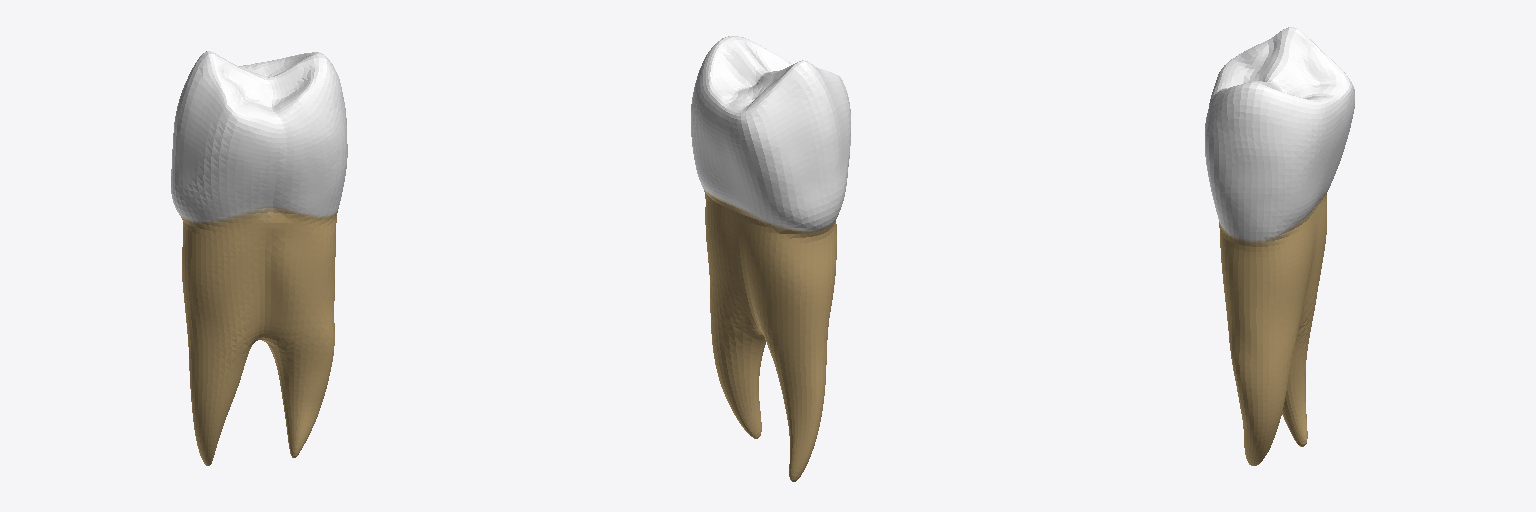
3 renders of one model, left to right at view 1: azimuth 30°, elevation 25°; view 2: azimuth 150°, elevation 25°; view 3: azimuth 270°, elevation 25°, orthographic.
Parts seen in each view (by area): view 1: outer; view 2: outer; view 3: outer.
Boxes of the visible parts, x1,y1,x2,y2 form: outer: [171, 51, 347, 465]; outer: [691, 36, 850, 481]; outer: [1205, 27, 1354, 465].
Bounding box in the file's own units: 3.64 × 9.58 × 3.14.
Materials: 2 (1 with a texture image).